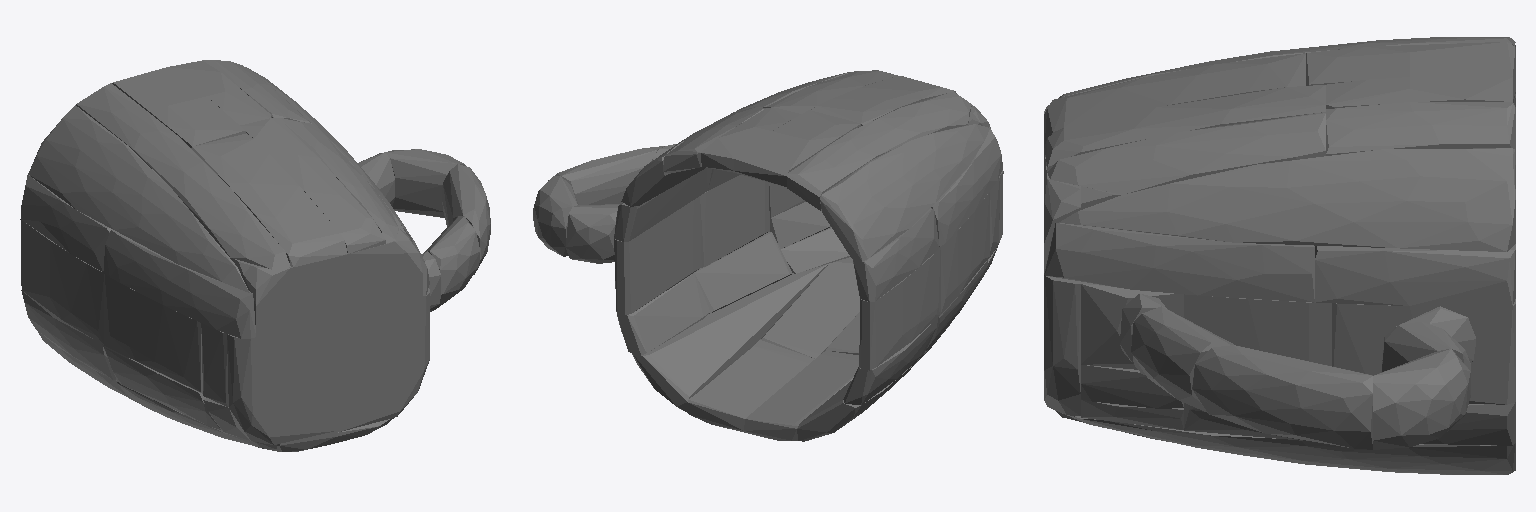
robot.urdf — base.urdf:
<?xml version='1.0' encoding='utf-8'?>
<robot name="base.urdf">
  <link name="baseLink">
    <contact>
      <lateral_friction value="0.5" />
      <rolling_friction value="0.0" />
      <contact_cfm value="0.0" />
      <contact_erp value="1.0" />
    </contact>
    <inertial>
      <origin rpy="0 0 0" xyz="-0.011775629996855178 -0.00025516388359048115 1.4008695462864944e-06" />
       <mass value="0.1" />
       <inertia ixx="1e-3" ixy="0" ixz="0" iyy="1e-3" iyz="0" izz="1e-3" />
    </inertial>
    <visual>
      <origin rpy="0 0 0" xyz="0 0 0" />
      <geometry>
        <mesh filename="base.obj" scale="1.2 1.2 1.2" />
      </geometry>
       <material name="gray">
        <color rgba="0.5 0.5 0.5 1" />
      </material>
    </visual>
    <collision>
      <geometry>
        <mesh filename="base.obj" scale="1.2 1.2 1.2" />
      </geometry>
    </collision>
  </link>
</robot>

--- Render facts (derived) ---
3 views of the same robot in one strip: view 1: azimuth 30°, elevation 25°; view 2: azimuth 150°, elevation 25°; view 3: azimuth 270°, elevation 25° (orthographic).
Model base.urdf with 1 links and 0 joints (none), rooted at baseLink, posed all joints at 0.
Links seen in each view (by area): view 1: baseLink; view 2: baseLink; view 3: baseLink.
Boxes of the visible links, x1,y1,x2,y2 form: baseLink: [20, 60, 490, 451]; baseLink: [533, 70, 1003, 441]; baseLink: [1044, 37, 1515, 474].
Bounding box of the posed robot: 0.1206 × 0.0948 × 0.0824 m (x, y, z).
1 mesh visuals loaded from 1 distinct referenced files (1 OBJ).